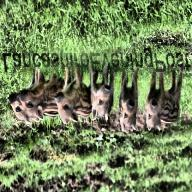boar: (142, 64, 183, 135), (88, 47, 116, 120), (58, 65, 92, 124), (21, 70, 63, 116), (117, 73, 142, 133), (7, 93, 24, 129)
